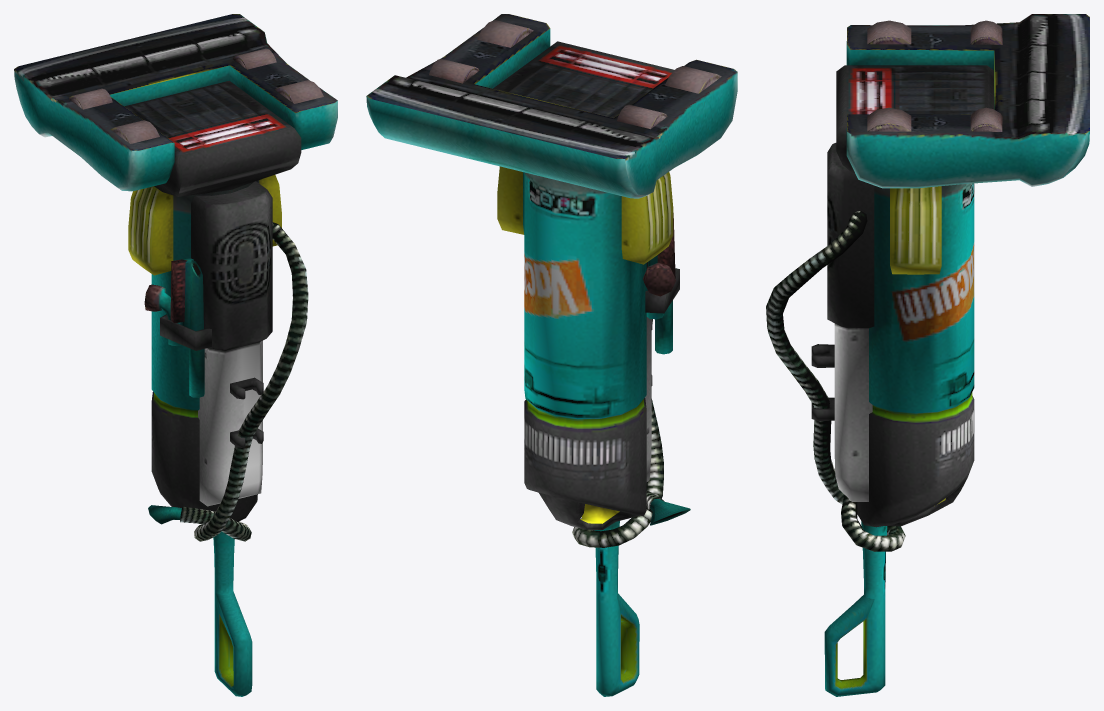
Rendered from vacuum.fbx.
The picture shows the model from 3 angles, left to right: view 1: azimuth 30°, elevation 25°; view 2: azimuth 150°, elevation 25°; view 3: azimuth 270°, elevation 25°; orthographic projection. The views are drawn at different scales.
Visible parts, largest first — view 1: Mesh_0717.rip_Tex_013; view 2: Mesh_0717.rip_Tex_013; view 3: Mesh_0717.rip_Tex_013.
Part boxes in pixels (box(x1,y1,x2,y2)): Mesh_0717.rip_Tex_013: box(14, 14, 337, 696); Mesh_0717.rip_Tex_013: box(366, 14, 737, 696); Mesh_0717.rip_Tex_013: box(766, 14, 1089, 696).
Bounding box in the file's own units: 50.4 × 122 × 57.5.
